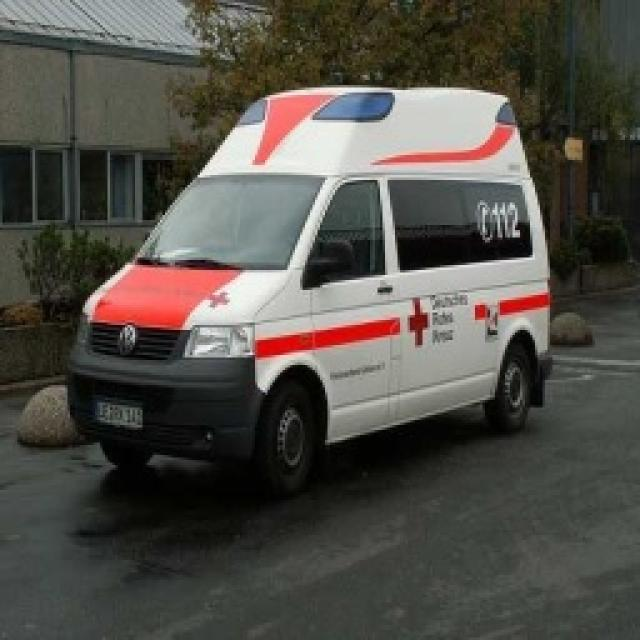emergency-vehicle: (62, 84, 554, 503)
